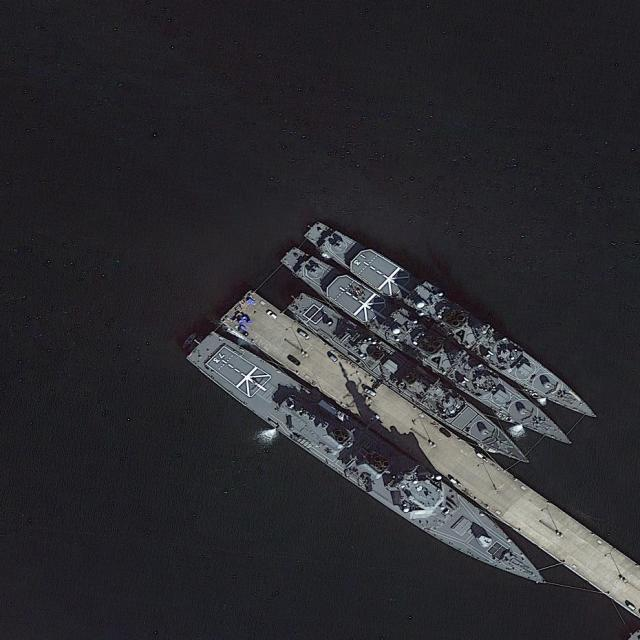Destroyer: (179, 316, 559, 608), (301, 213, 606, 431), (277, 239, 579, 457)
Frigate: (281, 282, 537, 479)
